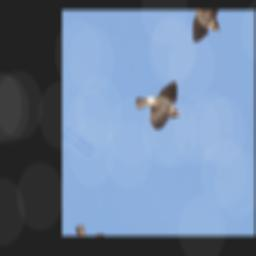Swallow: (130, 63, 193, 142)
